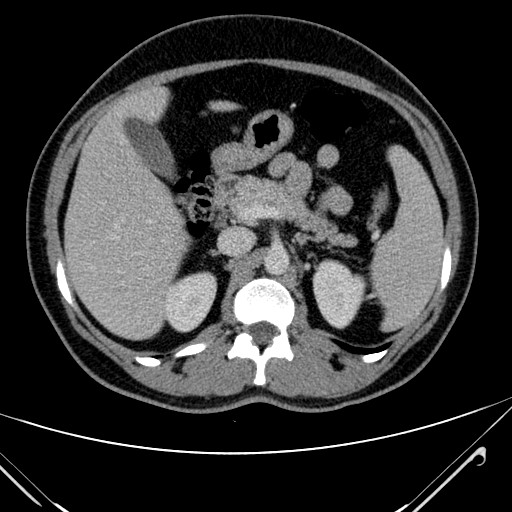vesicula: (120, 114, 181, 185)
